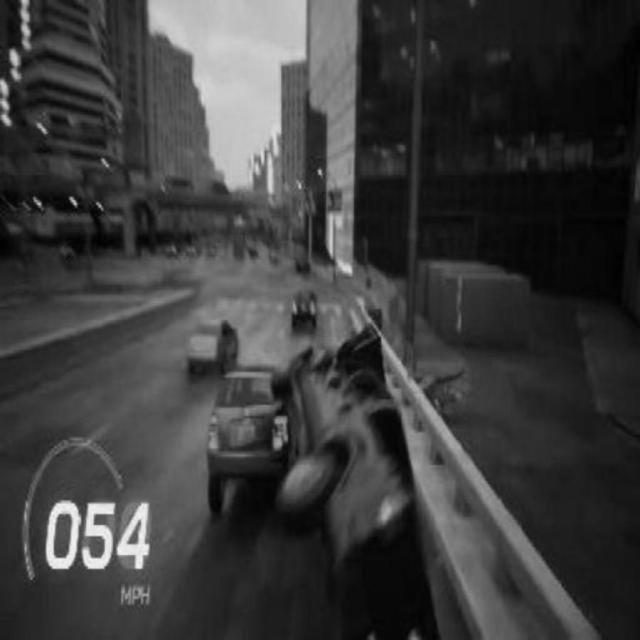accident: (203, 324, 425, 621)
vehicle: (177, 315, 241, 382), (288, 285, 325, 332)
